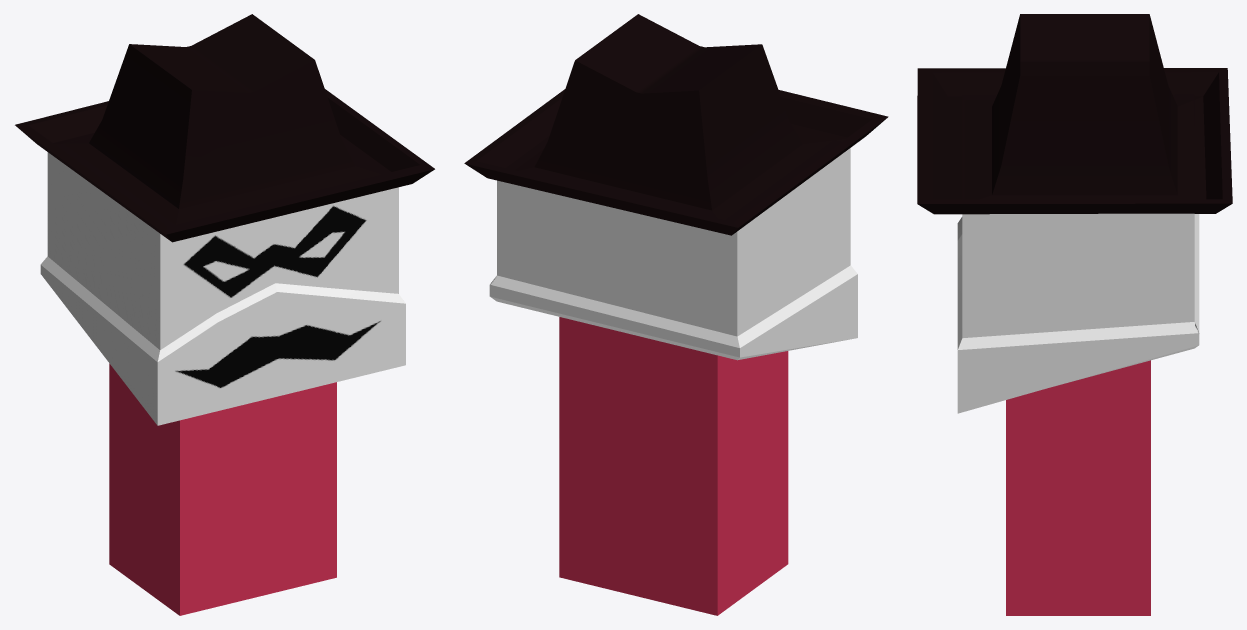
The model's file is char1.fbx.
The picture shows the model from 3 angles, left to right: view 1: azimuth 30°, elevation 25°; view 2: azimuth 150°, elevation 25°; view 3: azimuth 270°, elevation 25°; orthographic projection. The views are drawn at different scales.
Visible parts, largest first — view 1: polySurface107; view 2: polySurface107; view 3: polySurface107.
Part boxes in pixels (bbox=[...]): polySurface107: bbox=[15, 14, 434, 615]; polySurface107: bbox=[464, 14, 888, 615]; polySurface107: bbox=[917, 14, 1232, 615].
Bounding box in the file's own units: 1.85 × 3.37 × 1.81.
